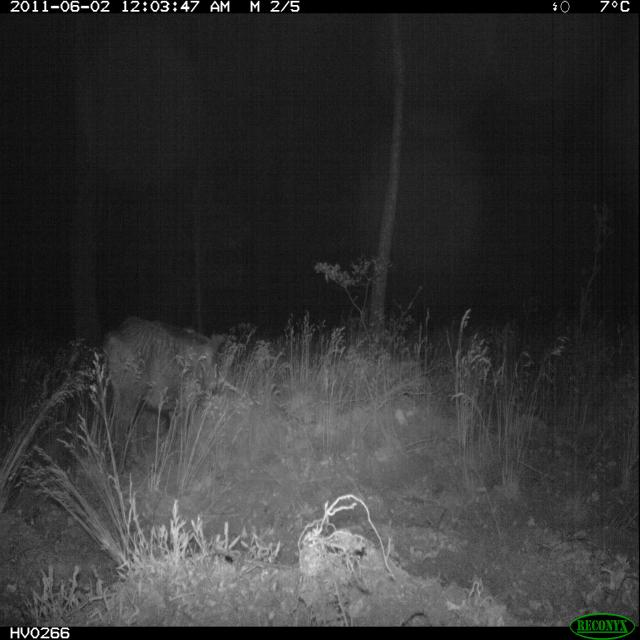boar: (83, 306, 220, 446)
